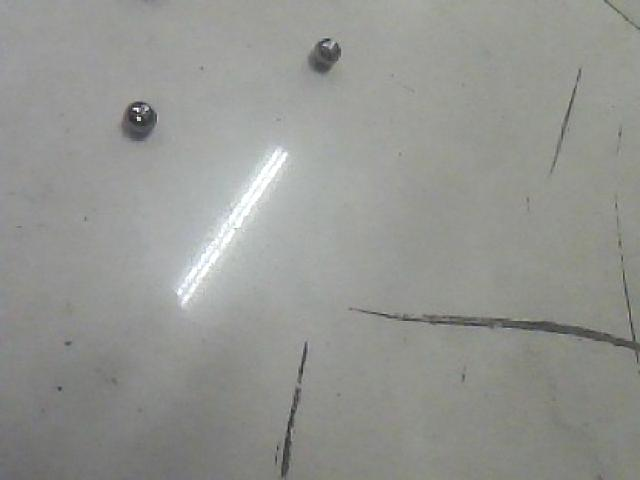steel-ball: (114, 86, 171, 139), (300, 28, 348, 72)
